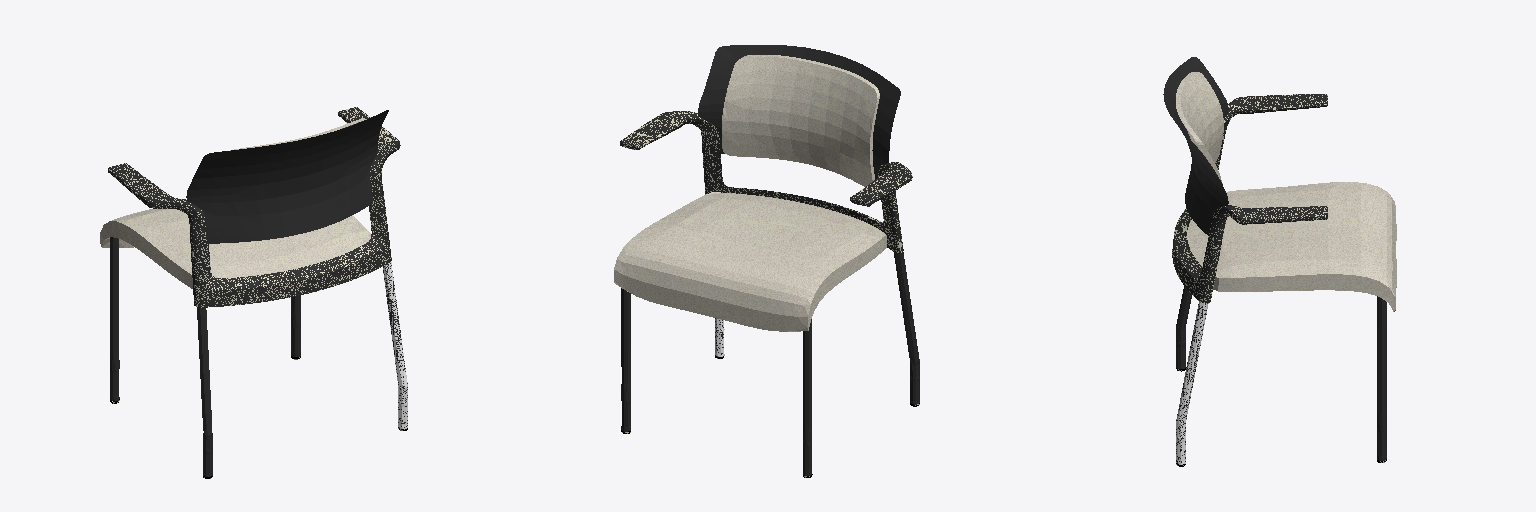
3 renders of one model, left to right at view 1: azimuth 30°, elevation 25°; view 2: azimuth 150°, elevation 25°; view 3: azimuth 270°, elevation 25°, orthographic.
Parts seen in each view (by area): view 1: mesh135_mesh135-geometry, mesh1_mesh1-geometry, mesh134_mesh134-geometry, mesh102_mesh102-geometry, mesh101_mesh101-geometry, mesh133_mesh133-geometry, mesh132_mesh132-geometry; view 2: mesh134_mesh134-geometry, mesh136_mesh136-geometry, mesh1_mesh1-geometry, mesh135_mesh135-geometry, mesh102_mesh102-geometry, mesh132_mesh132-geometry, mesh133_mesh133-geometry; view 3: mesh134_mesh134-geometry, mesh1_mesh1-geometry, mesh135_mesh135-geometry, mesh136_mesh136-geometry, mesh101_mesh101-geometry, mesh132_mesh132-geometry, mesh102_mesh102-geometry.
Part boxes in pixels (x1,y1,x2,y2): mesh135_mesh135-geometry: (186, 110, 388, 243); mesh1_mesh1-geometry: (108, 107, 400, 307); mesh134_mesh134-geometry: (100, 209, 370, 288); mesh102_mesh102-geometry: (197, 307, 212, 476); mesh101_mesh101-geometry: (383, 262, 407, 428); mesh133_mesh133-geometry: (110, 237, 119, 401); mesh132_mesh132-geometry: (291, 295, 300, 356); mesh134_mesh134-geometry: (614, 192, 886, 331); mesh136_mesh136-geometry: (722, 55, 879, 186); mesh1_mesh1-geometry: (620, 111, 912, 252); mesh135_mesh135-geometry: (698, 45, 900, 179); mesh102_mesh102-geometry: (894, 252, 919, 404); mesh132_mesh132-geometry: (621, 288, 630, 431); mesh133_mesh133-geometry: (803, 319, 811, 475); mesh134_mesh134-geometry: (1187, 182, 1396, 311); mesh1_mesh1-geometry: (1172, 94, 1327, 302); mesh135_mesh135-geometry: (1163, 57, 1228, 235); mesh136_mesh136-geometry: (1176, 72, 1223, 183); mesh101_mesh101-geometry: (1176, 301, 1208, 464); mesh132_mesh132-geometry: (1377, 296, 1386, 460); mesh102_mesh102-geometry: (1176, 286, 1191, 368).
Size of the model in its own units: 0.5643 by 0.6913 by 0.4514.
10 materials, 1 textured.